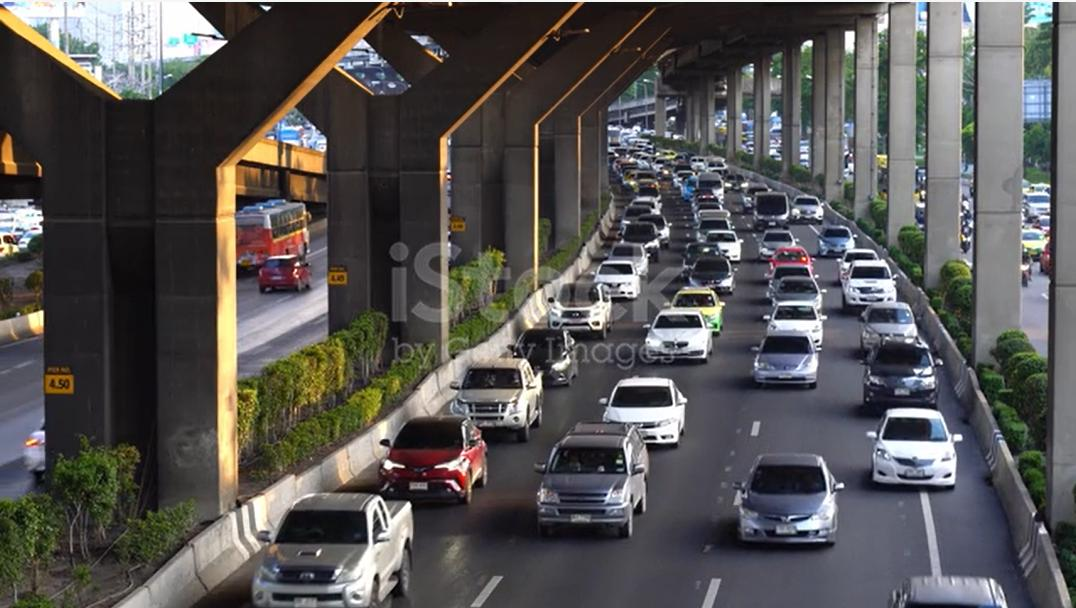bus: (229, 196, 323, 279)
car: (236, 481, 418, 608), (730, 428, 845, 569), (520, 418, 654, 537), (373, 401, 495, 505), (861, 394, 968, 502), (446, 350, 540, 447), (858, 324, 940, 422), (599, 376, 690, 451), (509, 323, 598, 395), (538, 279, 619, 355), (843, 294, 933, 356), (746, 328, 833, 388), (638, 303, 718, 368), (760, 300, 834, 351), (659, 283, 726, 334), (590, 251, 644, 306), (258, 245, 308, 296), (616, 214, 665, 266), (683, 252, 738, 297), (843, 263, 891, 314), (771, 274, 826, 310), (814, 224, 859, 259), (703, 224, 743, 262), (790, 190, 827, 229), (606, 245, 646, 281), (770, 260, 806, 291), (756, 226, 788, 259)
